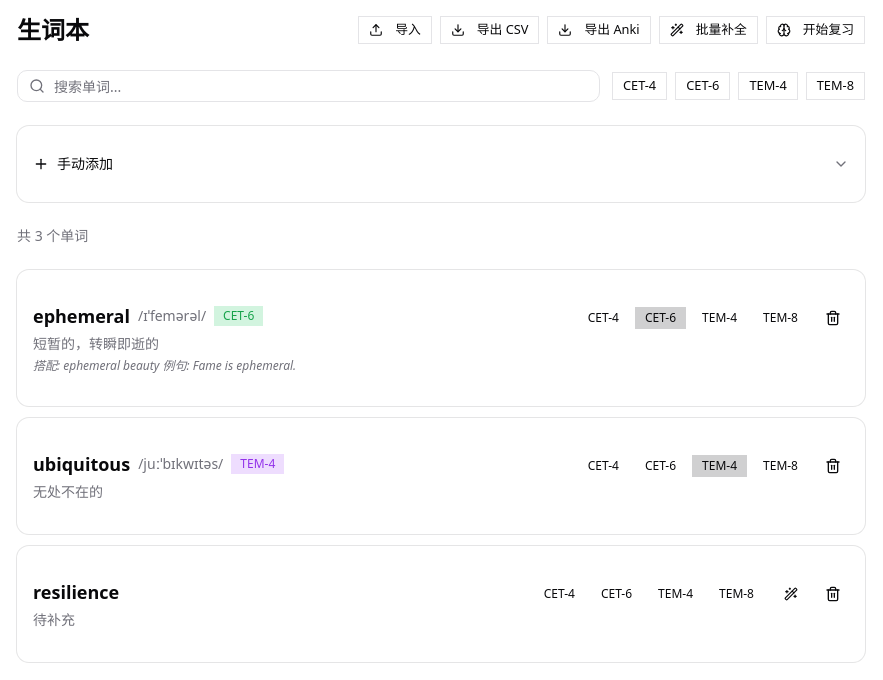
Test: VocabularyPage › filters words by level
Check: the text "ephemeral" is shown, box [33,302,130,330]
Note: Click the TEM-4 filter button (in the filter bar, not the per-word level buttons)
Click the 1st button "TEM-4". click: (768, 86)
box: [738,72,798,100]
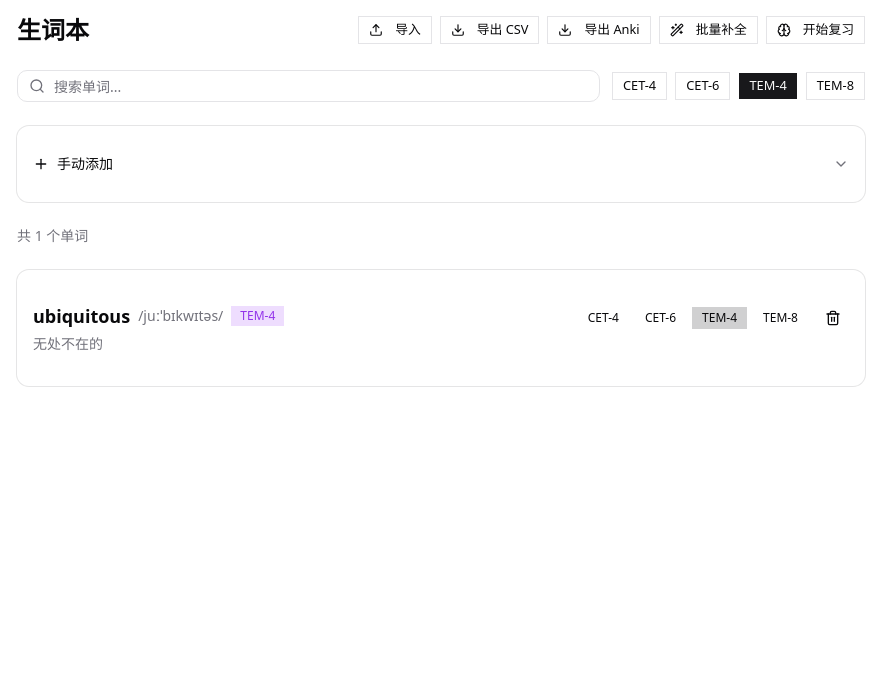
Check: the text "ubiquitous" is shown, box [33,302,130,330]
Check: the text "ephemeral" is gone
Check: the text "共 1 个单词" is shown, box [17,226,88,245]
